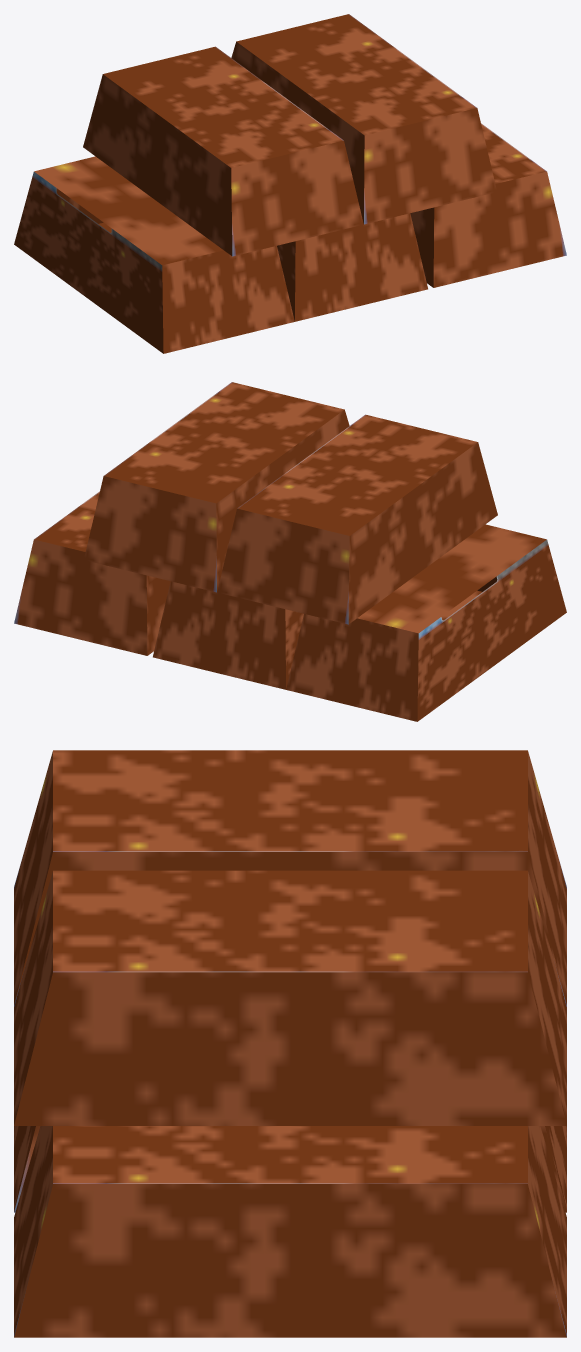
The model's file is SM_Dungeon_Gold_Stack.fbx.
The picture shows the model from 3 angles, top to bottom: view 1: azimuth 30°, elevation 25°; view 2: azimuth 150°, elevation 25°; view 3: azimuth 270°, elevation 25°; orthographic projection. The views are drawn at different scales.
Visible parts, largest first — view 1: SM_Dungeon_Gold_Stack.004; view 2: SM_Dungeon_Gold_Stack.004; view 3: SM_Dungeon_Gold_Stack.004.
Part boxes in pixels (box(x1,y1,x2,y2)): SM_Dungeon_Gold_Stack.004: box(14, 14, 566, 353); SM_Dungeon_Gold_Stack.004: box(14, 382, 566, 721); SM_Dungeon_Gold_Stack.004: box(14, 750, 566, 1337).
Bounding box in the file's own units: 36.94 × 13.92 × 23.71.
